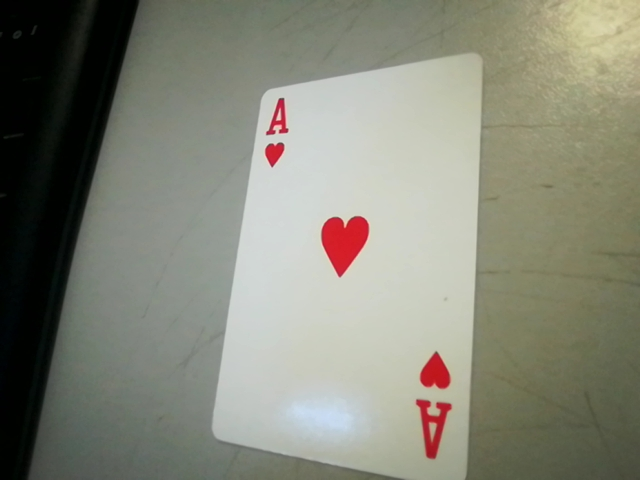hx a: (408, 337, 461, 473)
